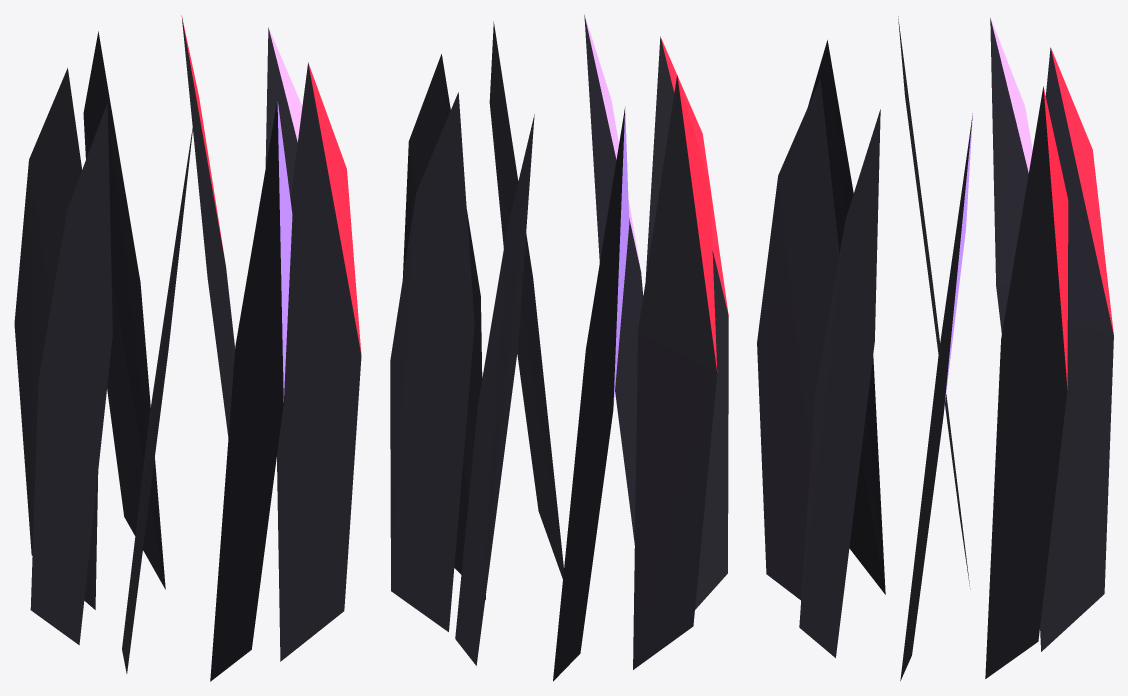
The model's file is aura-continuity.glb.
The picture shows the model from 3 angles, left to right: view 1: azimuth 30°, elevation 25°; view 2: azimuth 150°, elevation 25°; view 3: azimuth 270°, elevation 25°; orthographic projection.
Visible parts, largest first — view 1: AURA_Blade_07, AURA_Blade_04, AURA_Blade_06, AURA_Blade_03, AURA_Blade_02, AURA_Blade_01, AURA_Blade_05, AURA_Blade_00; view 2: AURA_Blade_04, AURA_Blade_01, AURA_Blade_03, AURA_Blade_02, AURA_Blade_05, AURA_Blade_07, AURA_Blade_06, AURA_Blade_00; view 3: AURA_Blade_01, AURA_Blade_06, AURA_Blade_02, AURA_Blade_07, AURA_Blade_05, AURA_Blade_03, AURA_Blade_00, AURA_Blade_04.
Boxes of the visible parts, x1,y1,x2,y2 form: AURA_Blade_07: (277, 62, 361, 661); AURA_Blade_04: (30, 103, 112, 645); AURA_Blade_06: (210, 99, 292, 681); AURA_Blade_03: (14, 68, 98, 609); AURA_Blade_02: (83, 31, 165, 589); AURA_Blade_01: (181, 15, 235, 437); AURA_Blade_05: (122, 120, 193, 673); AURA_Blade_00: (265, 27, 302, 198); AURA_Blade_04: (633, 75, 717, 669); AURA_Blade_01: (390, 92, 474, 631); AURA_Blade_03: (553, 107, 629, 681); AURA_Blade_02: (455, 114, 534, 665); AURA_Blade_05: (645, 36, 728, 609); AURA_Blade_07: (489, 21, 563, 578); AURA_Blade_06: (584, 14, 643, 544); AURA_Blade_00: (402, 54, 485, 599); AURA_Blade_01: (985, 86, 1068, 678); AURA_Blade_06: (757, 79, 839, 599); AURA_Blade_02: (1040, 47, 1113, 651); AURA_Blade_07: (799, 109, 880, 657); AURA_Blade_05: (808, 40, 885, 594); AURA_Blade_03: (990, 18, 1032, 333); AURA_Blade_00: (900, 113, 972, 680); AURA_Blade_04: (898, 16, 970, 588).
Size of the model in its own units: 1.52 by 2.7 by 1.52.
